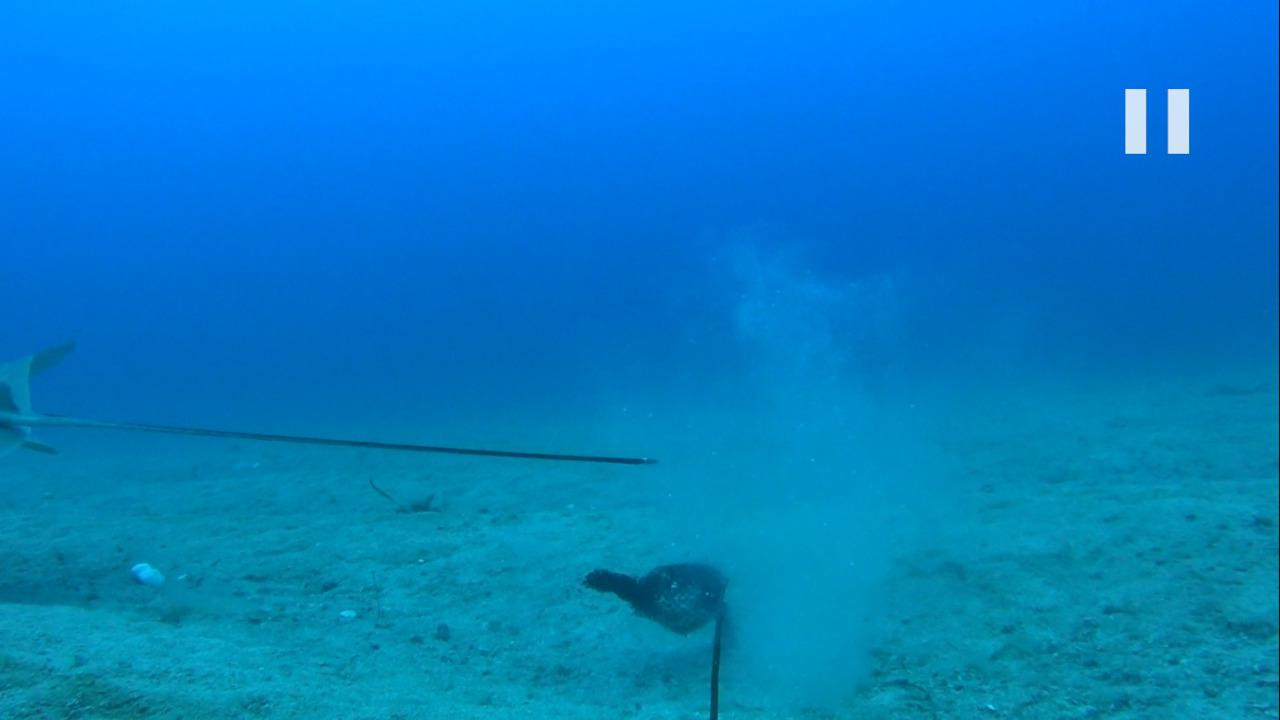myliobatis: (6, 329, 667, 500)
